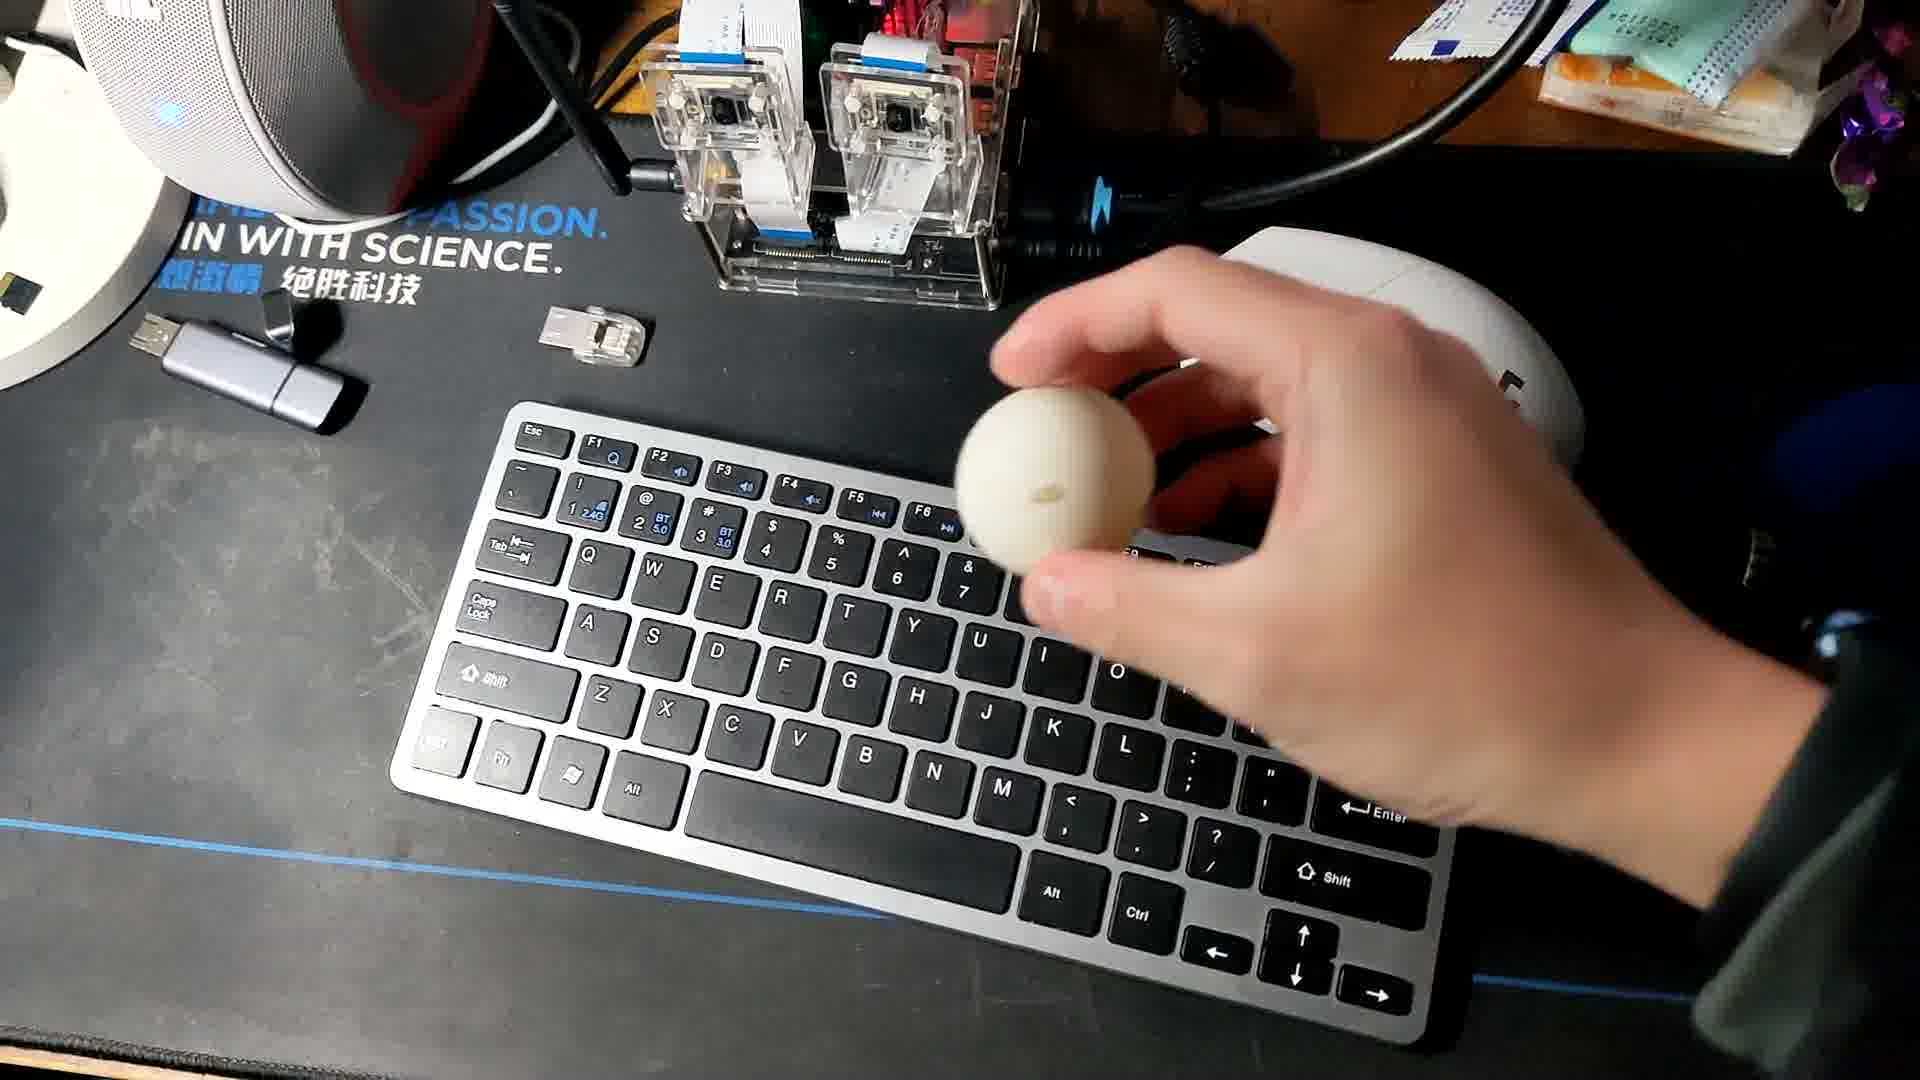Ball: (957, 382, 1153, 571)
